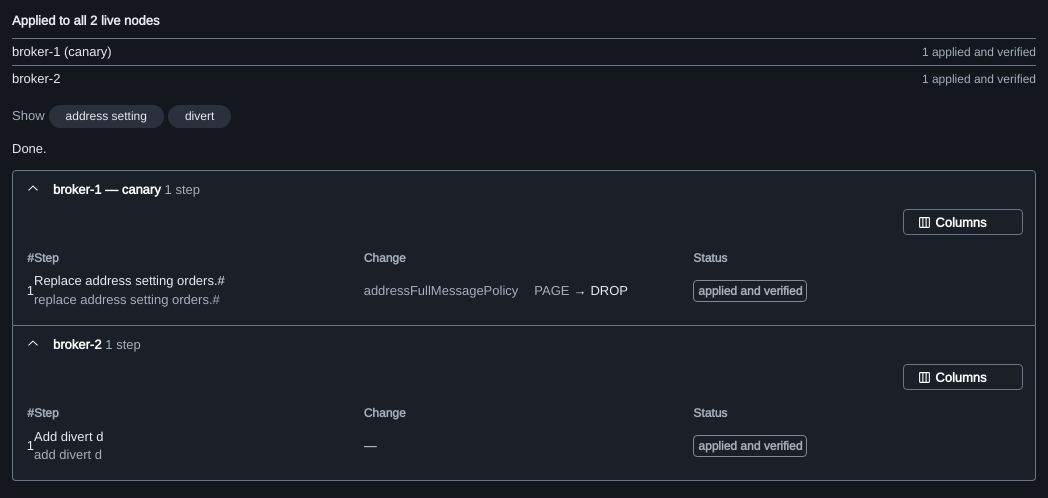
it: ApplyResult step tables › says why a node shows no step rather than dropping it: nothing matches the filter
Click the checkbox labelled "divert": coordinates (200, 116) [168,105,231,128]
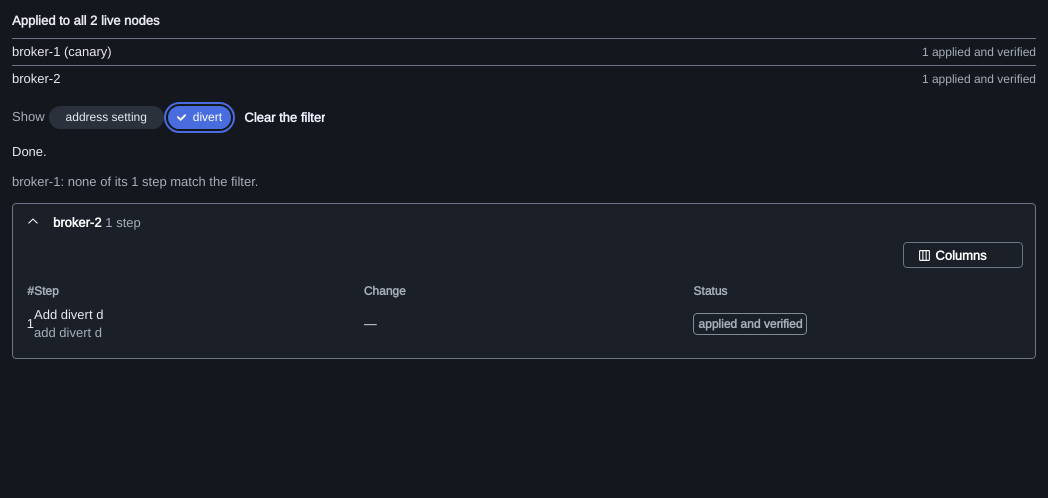
expect the text "Add divert d" is shown: met, box [34,306,103,323]
expect the text "broker-1: none of its 1 step match the filter." is shown: met, box [12,173,258,190]
